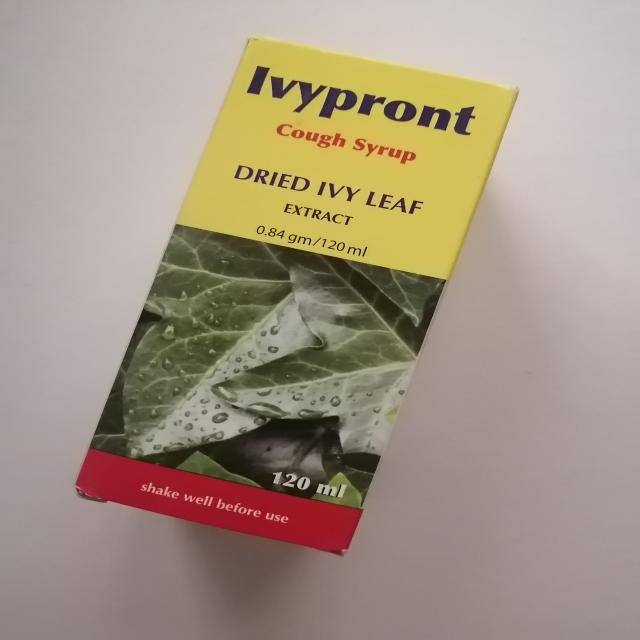Medicine: (66, 34, 519, 556)
